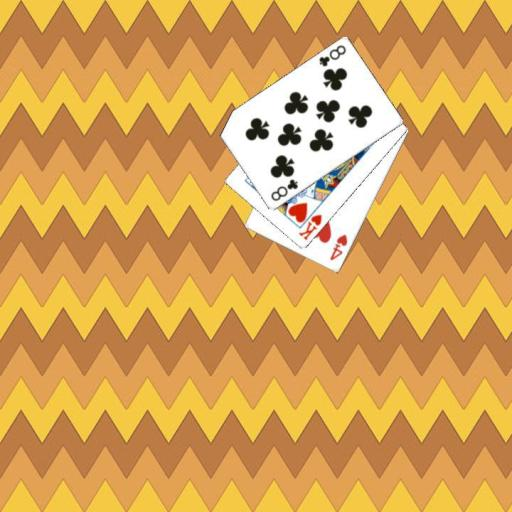4H: (327, 231, 350, 263)
8C: (268, 176, 300, 203), (316, 42, 348, 68)
KH: (295, 211, 324, 242)
